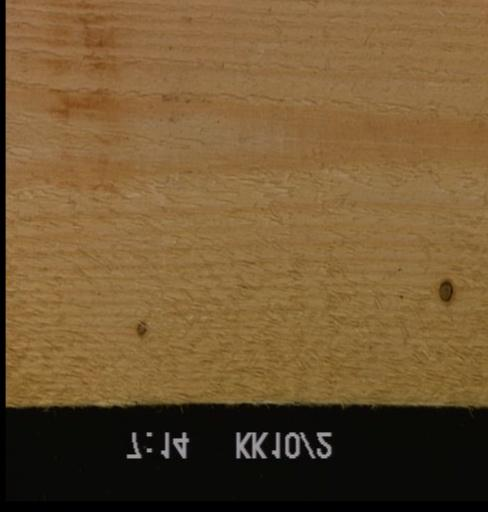dry_knot: (436, 278, 452, 303), (135, 320, 146, 337)
